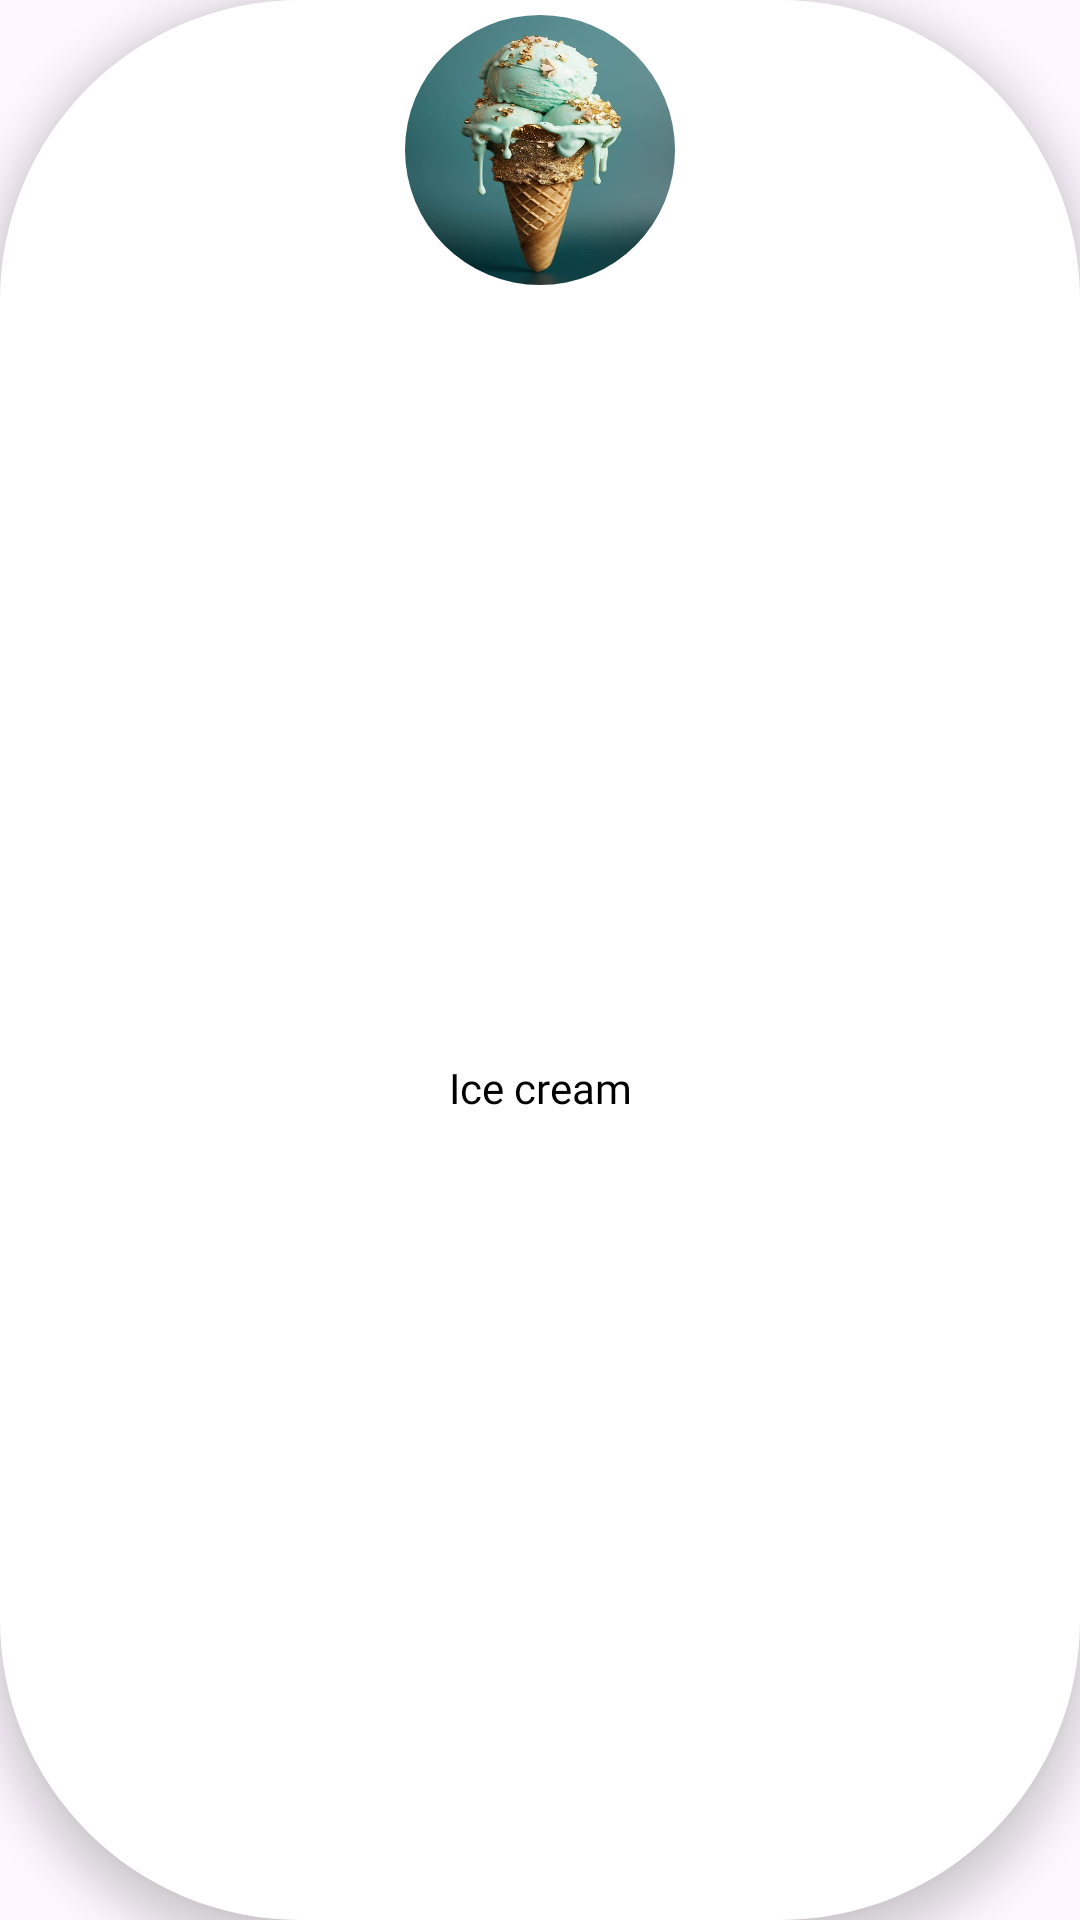

Icons on this 1080px×1920px Android screen, each with its box as (x1, y1, x2, y2):
icecream: (405, 15, 675, 285)
